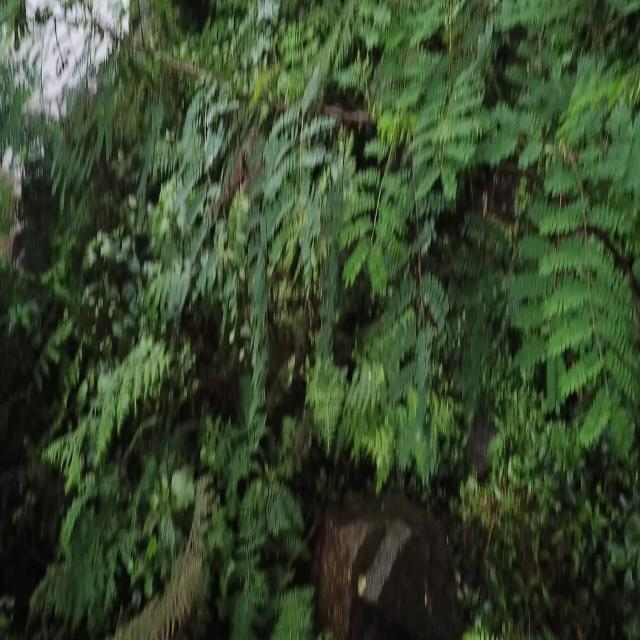Mysore-Thorn-Weed: (137, 0, 482, 384), (506, 0, 634, 455)
